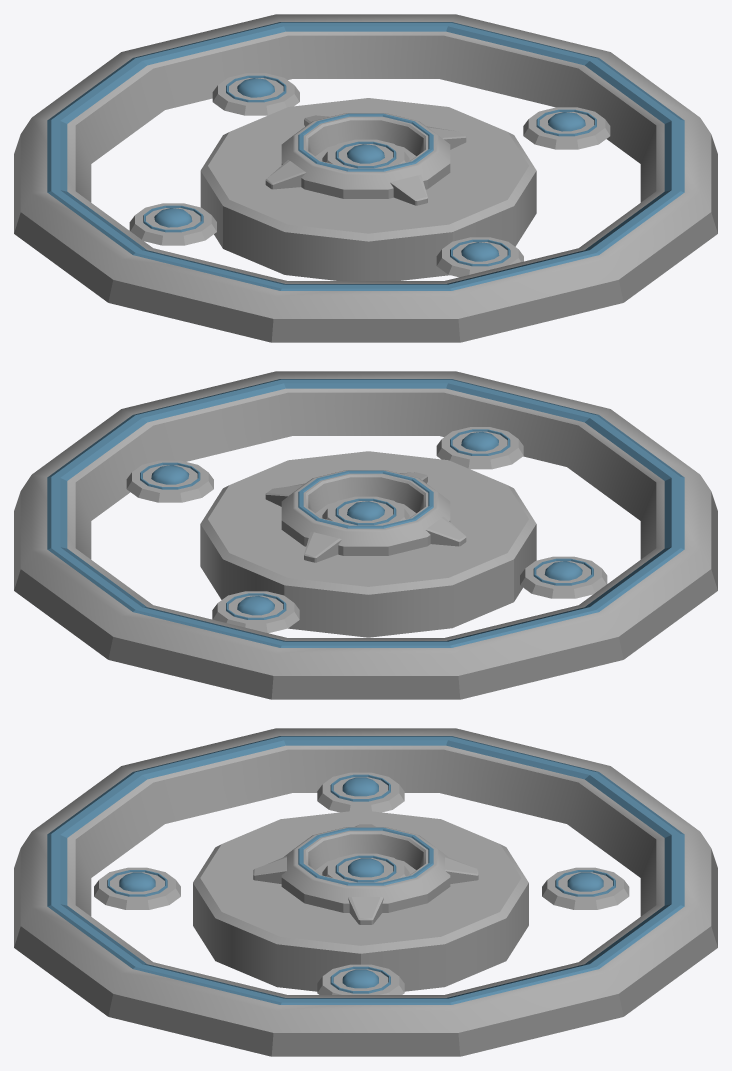
The model's file is EndPortal.fbx.
3 renders of one model, top to bottom at view 1: azimuth 30°, elevation 25°; view 2: azimuth 150°, elevation 25°; view 3: azimuth 270°, elevation 25°, orthographic.
Parts seen in each view (by area): view 1: FinalPortal; view 2: FinalPortal; view 3: FinalPortal.
Boxes of the visible parts, bbox=[...] form: FinalPortal: bbox=[14, 14, 717, 342]; FinalPortal: bbox=[14, 371, 717, 699]; FinalPortal: bbox=[14, 728, 717, 1056].
Bounding box in the file's own units: 11.15 × 1.22 × 11.15.
